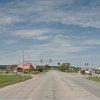Tree: (36, 57, 46, 72)
